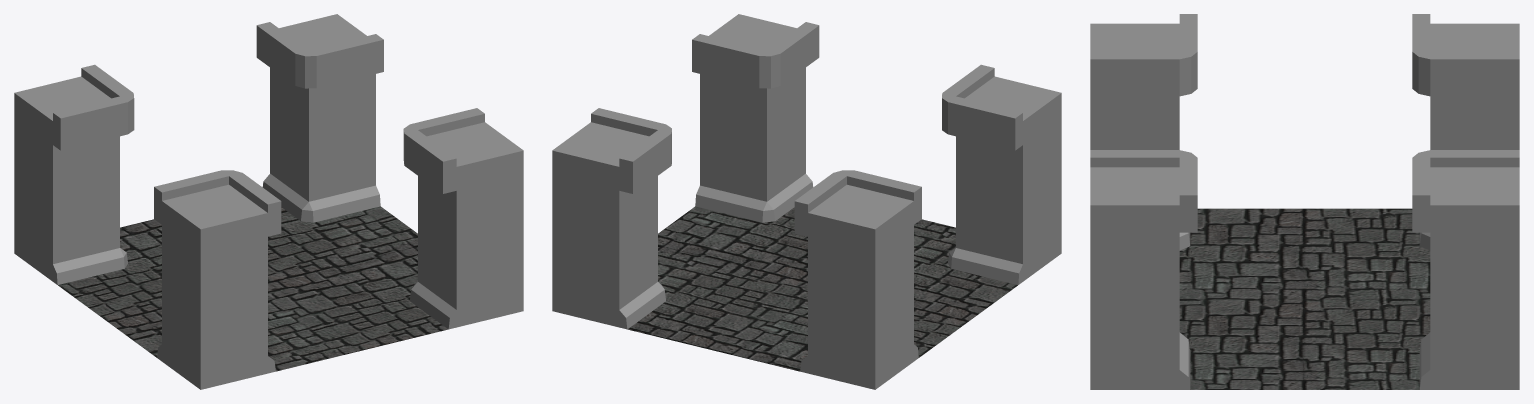
Rendered from Segment_Crossing.FBX.
The picture shows the model from 3 angles, left to right: view 1: azimuth 30°, elevation 25°; view 2: azimuth 150°, elevation 25°; view 3: azimuth 270°, elevation 25°; orthographic projection. The views are drawn at different scales.
Visible parts, largest first — view 1: Plane009, Box090, Box091, Box092, Box089; view 2: Plane009, Box092, Box089, Box090, Box091; view 3: Plane009, Box089, Box091, Box090, Box092.
Boxes of the visible parts, x1,y1,x2,y2 form: Plane009: [58, 206, 448, 371]; Box090: [154, 170, 281, 389]; Box091: [403, 108, 523, 329]; Box092: [14, 64, 134, 284]; Box089: [256, 14, 383, 222]; Plane009: [627, 206, 1017, 371]; Box092: [794, 170, 921, 389]; Box089: [552, 108, 671, 329]; Box090: [942, 64, 1061, 284]; Box091: [692, 14, 819, 222]; Plane009: [1179, 208, 1430, 389]; Box089: [1412, 150, 1519, 389]; Box091: [1090, 150, 1197, 389]; Box090: [1090, 14, 1197, 250]; Box092: [1412, 14, 1519, 250].
Bounding box in the file's own units: 400 × 200 × 400.
2 materials, 1 textured.
